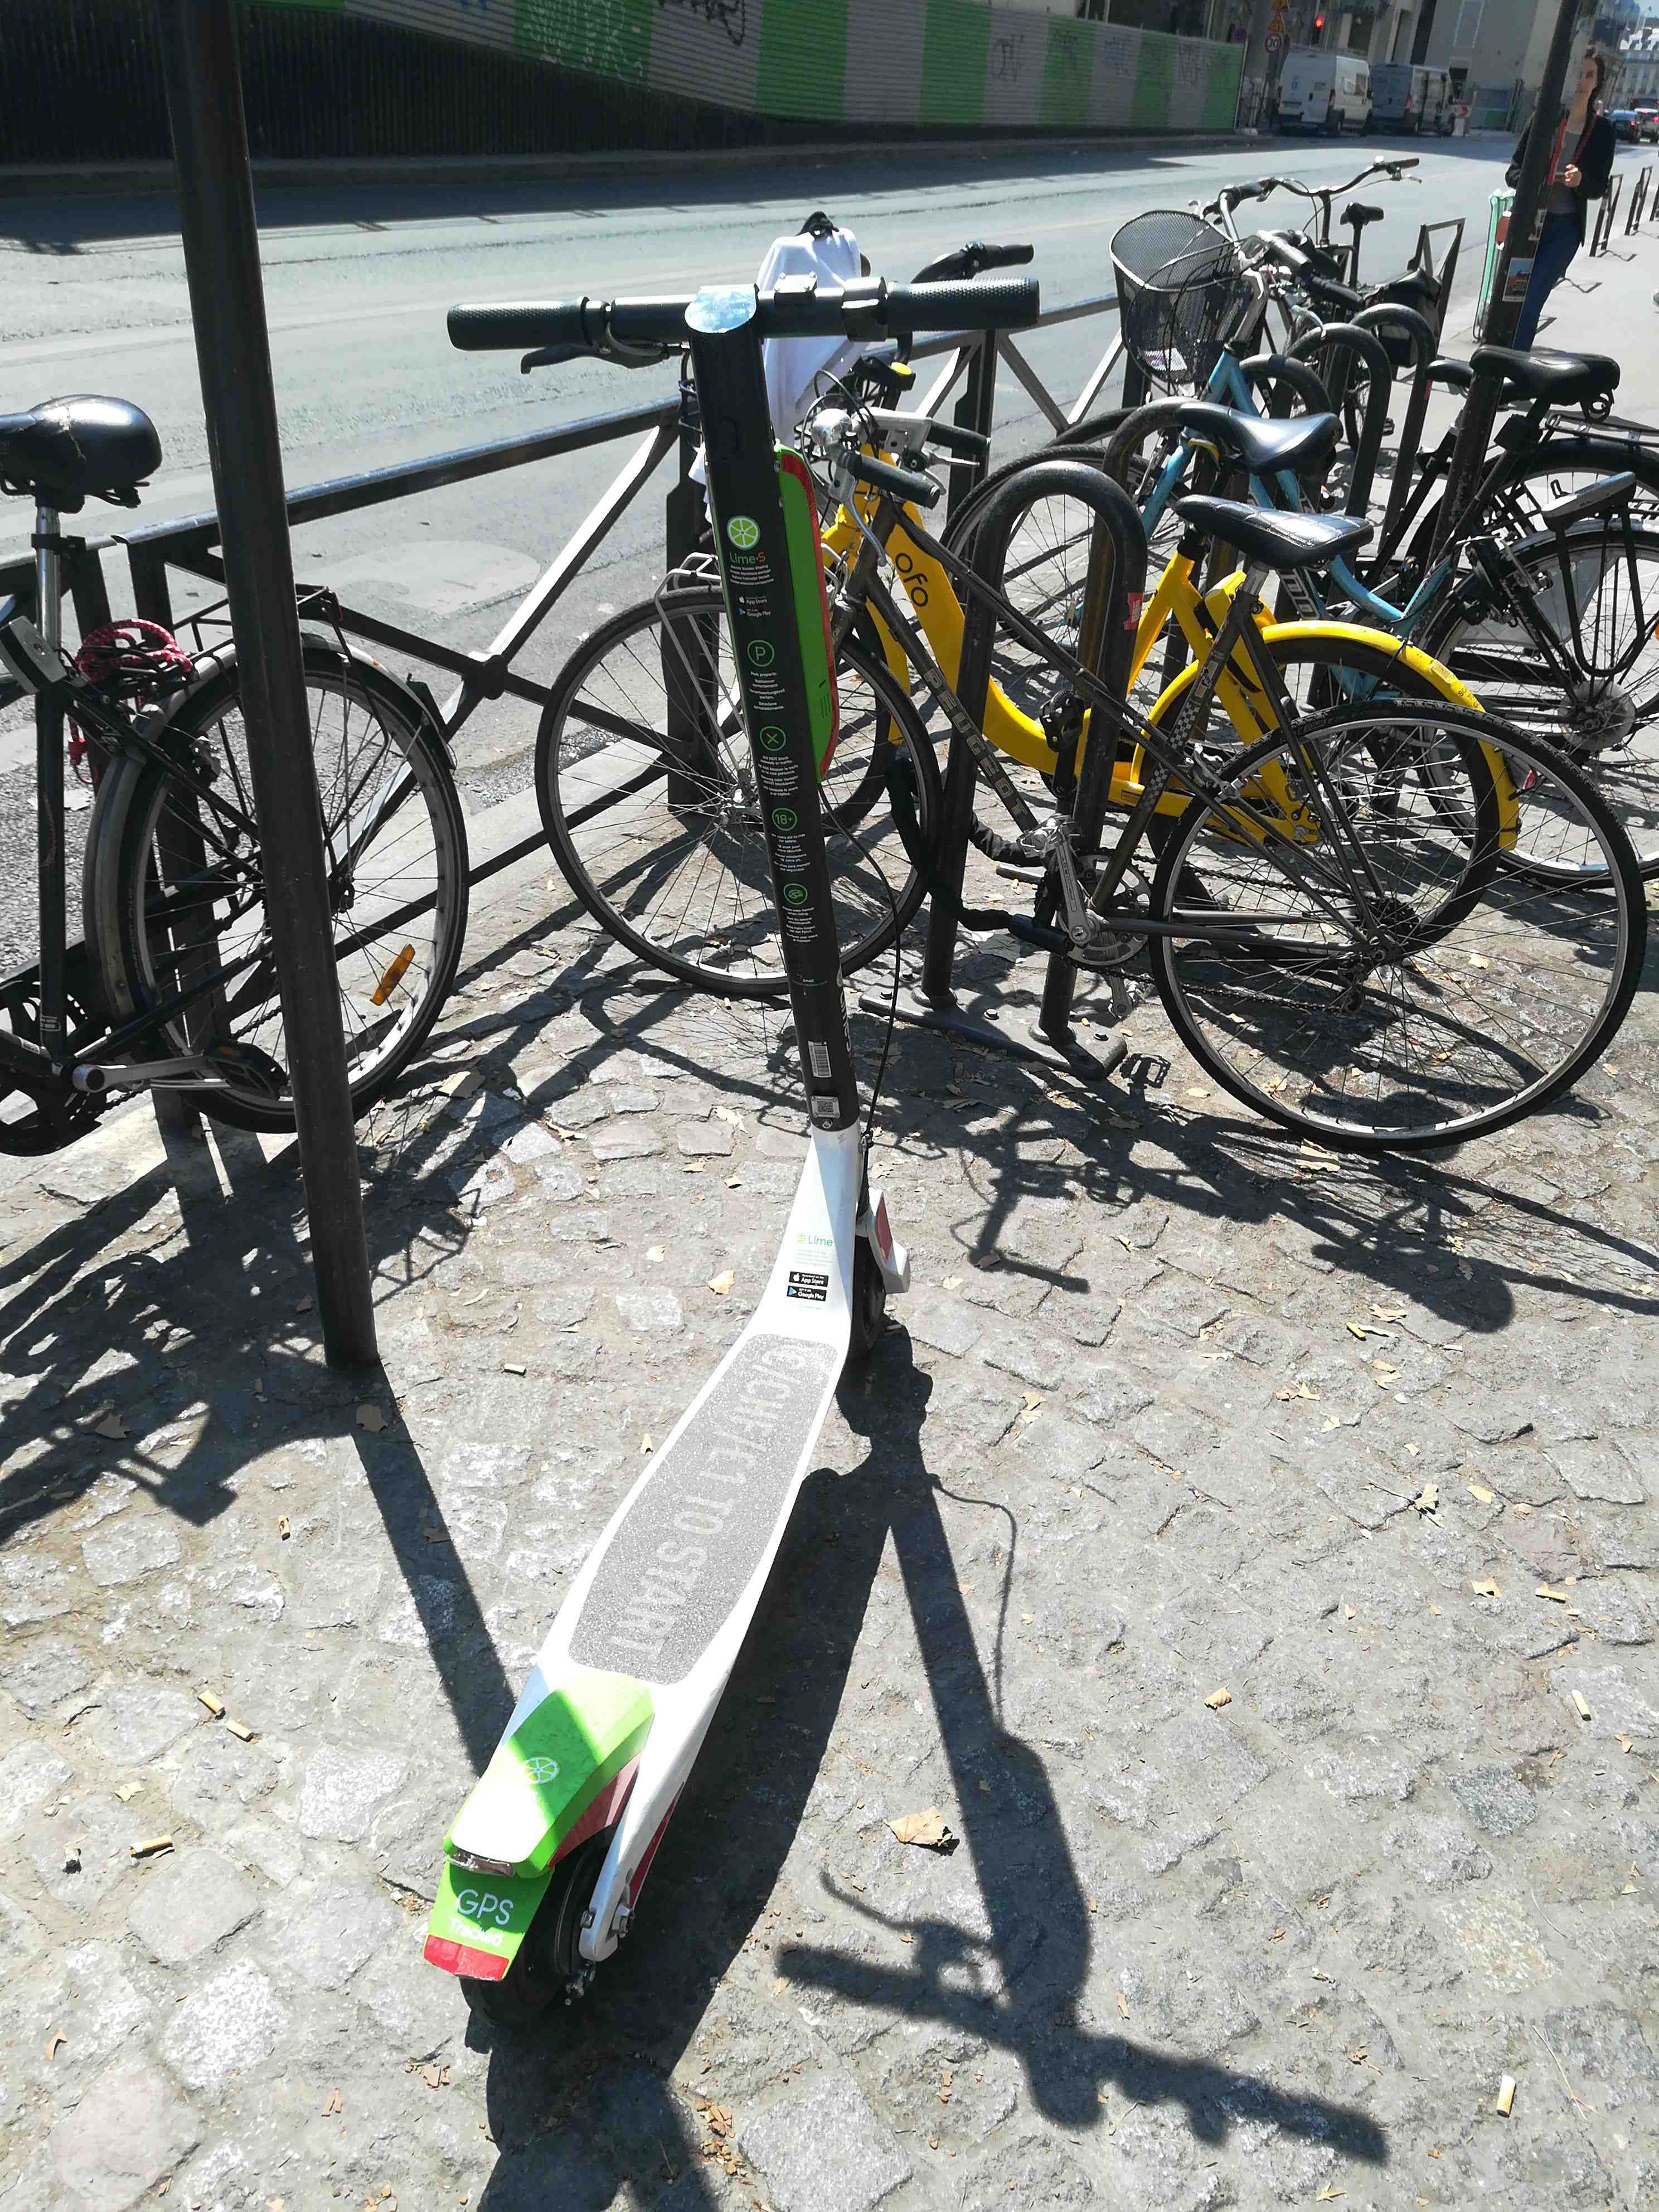scooter: (396, 251, 1108, 2054)
